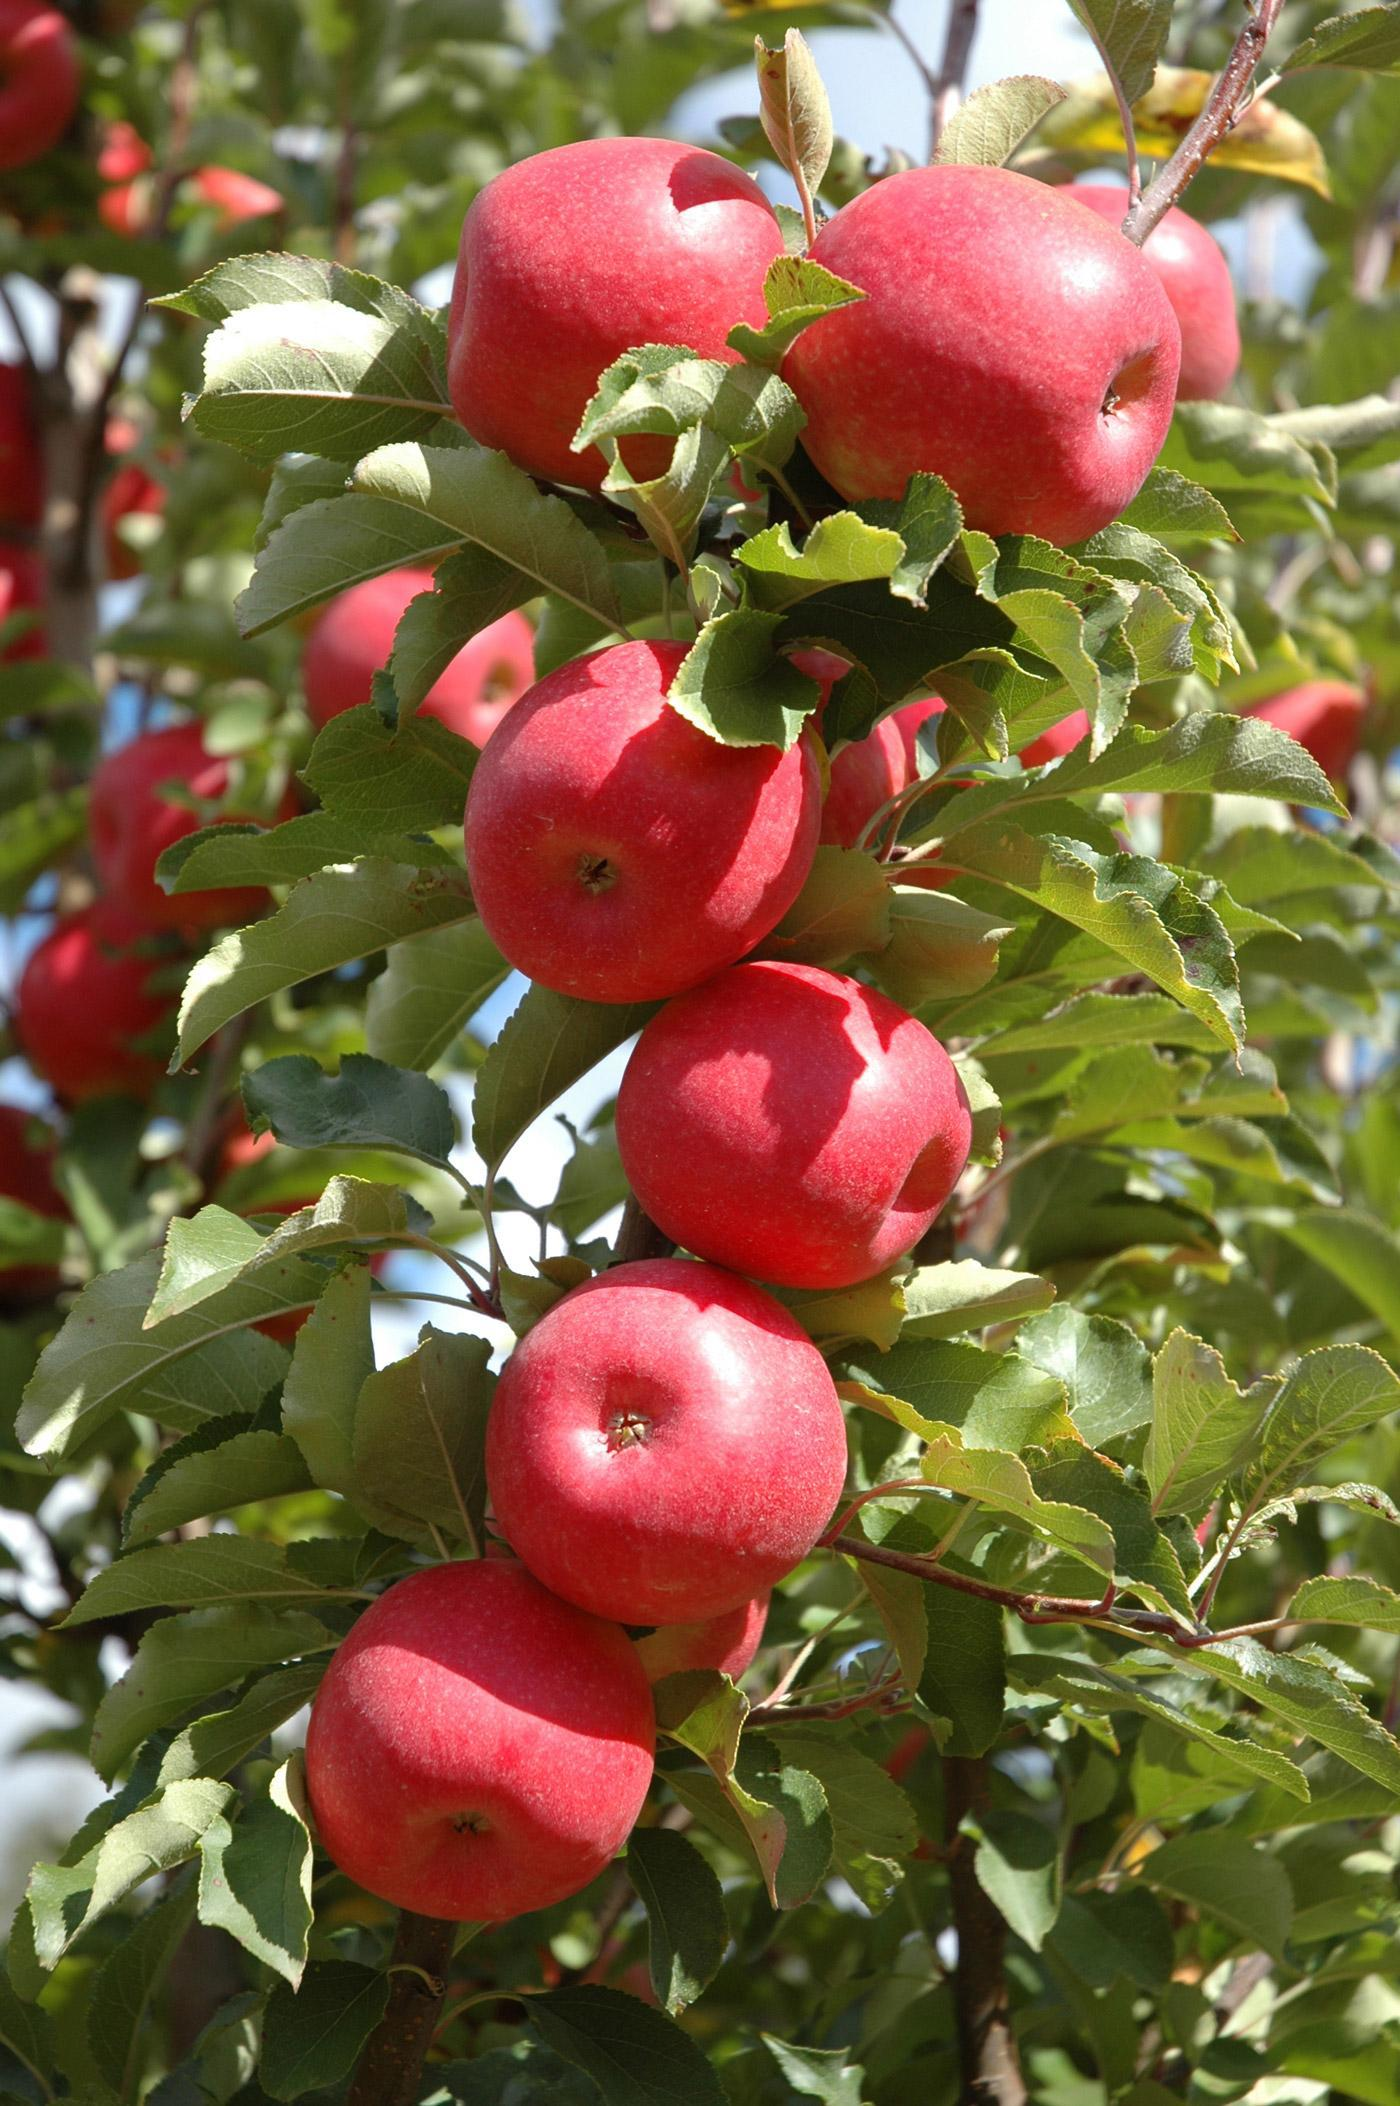apple: (770, 170, 1187, 547), (459, 634, 825, 1005), (441, 133, 794, 516), (481, 1269, 845, 1639), (294, 1555, 645, 1929), (611, 962, 978, 1297)
